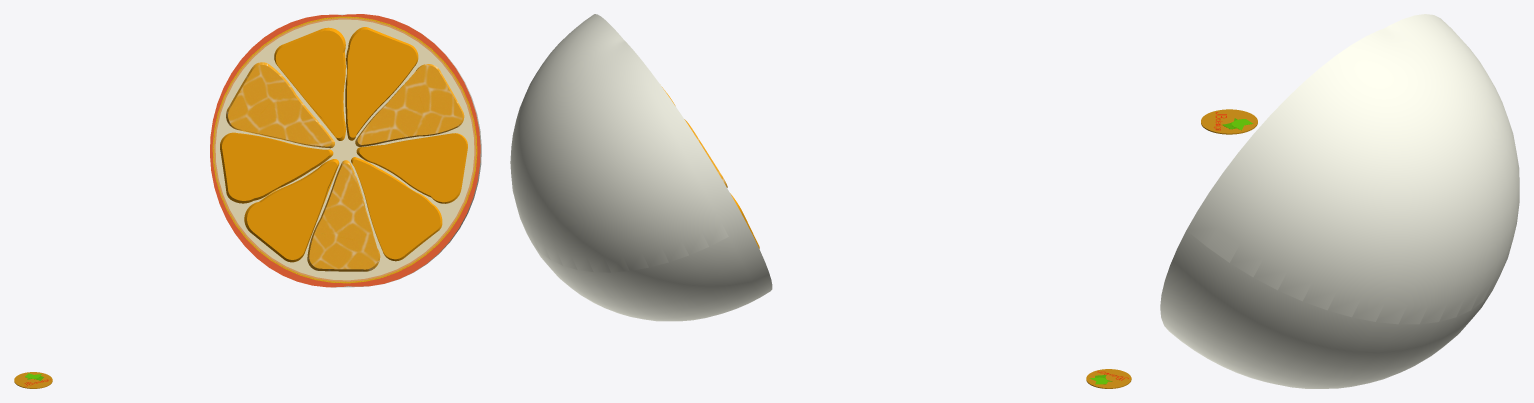
The model's file is orange2.fbx.
The picture shows the model from 3 angles, left to right: view 1: azimuth 30°, elevation 25°; view 2: azimuth 150°, elevation 25°; view 3: azimuth 270°, elevation 25°; orthographic projection. The views are drawn at different scales.
Visible parts, largest first — view 1: Group5, Group14, Group13, Group7, Group10, Group12, Group11, Group8, Group9, Group6, Group4; view 2: Group5, Group4; view 3: Group5, Group4.
Part boxes in pixels (<box>): Group5: <box>210,14,481,287</box>; Group14: <box>226,62,334,148</box>; Group13: <box>307,160,380,271</box>; Group7: <box>220,132,333,203</box>; Group10: <box>345,27,418,140</box>; Group12: <box>355,64,464,146</box>; Group11: <box>244,159,339,262</box>; Group8: <box>274,27,345,140</box>; Group9: <box>351,157,442,261</box>; Group6: <box>356,133,467,203</box>; Group4: <box>14,372,52,388</box>; Group5: <box>510,14,772,321</box>; Group4: <box>1086,369,1131,388</box>; Group5: <box>1160,14,1519,388</box>; Group4: <box>1201,109,1257,134</box>.
Size of the model in its own units: 9502 by 4613 by 4198.
